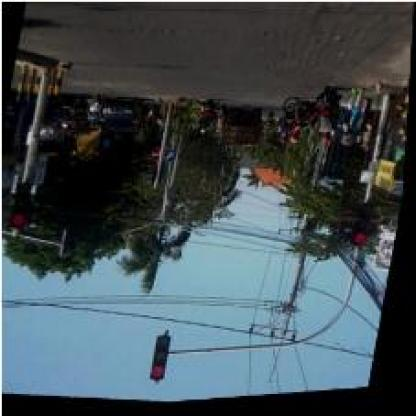red: (9, 180, 35, 231), (151, 337, 175, 385), (354, 208, 376, 254)
